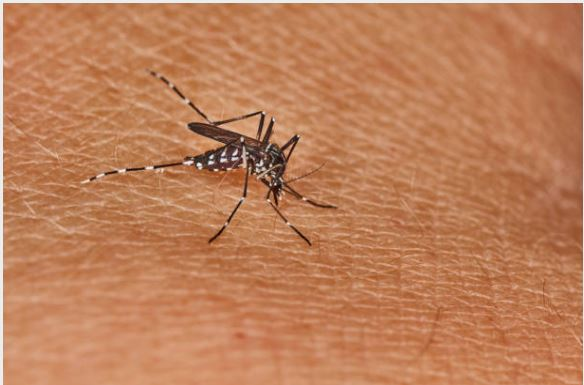dengue_mosquito: (81, 66, 339, 245)
